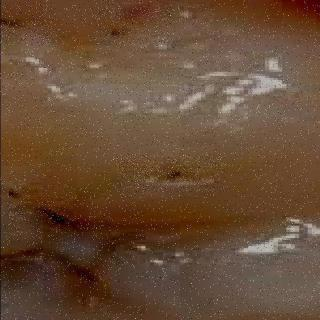cavities: (0, 143, 147, 320)
